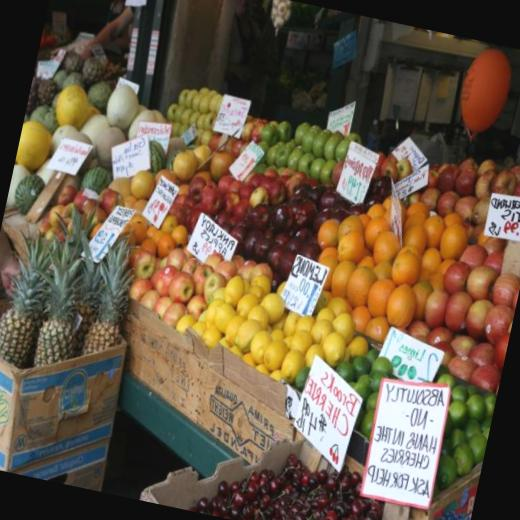Mango: (0, 224, 59, 370), (32, 234, 94, 367), (81, 228, 143, 360), (48, 198, 104, 270), (67, 258, 108, 356)
